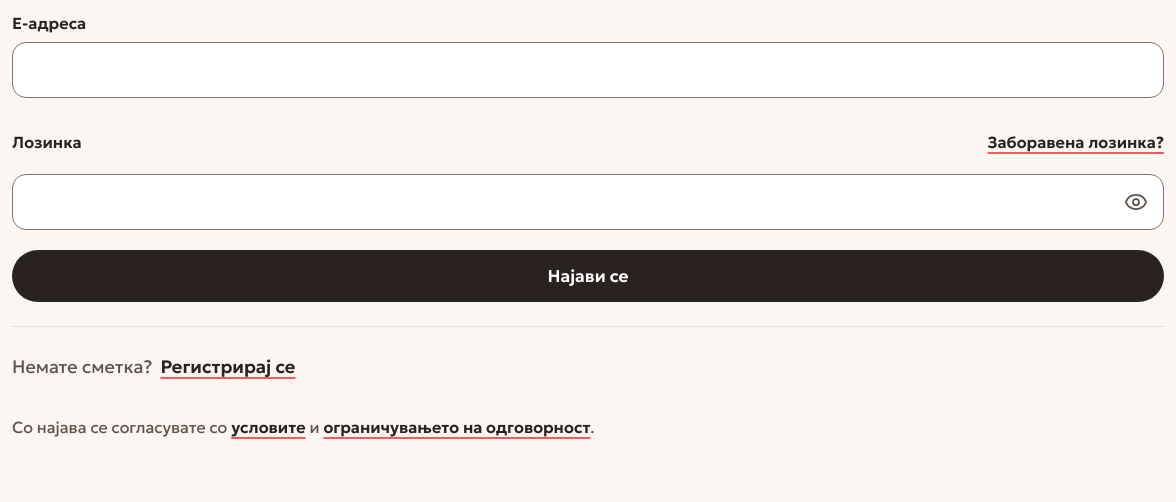
Test: LoginForm › reports a network failure without crashing
In the field labelled "Е-адреса": (588, 70) [12, 42, 1164, 98], type "ana@example.mk"
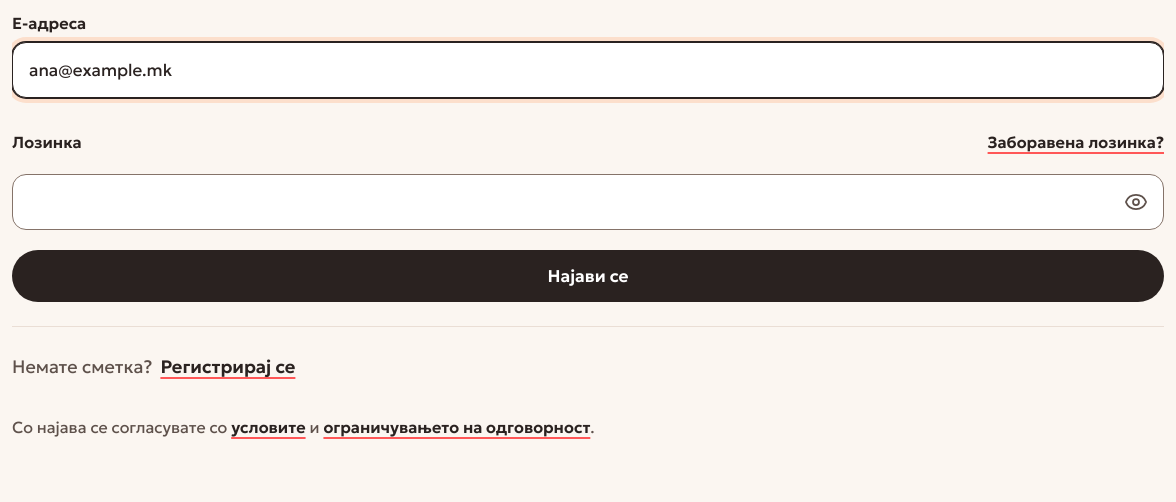
In the password field labelled "Лозинка": (588, 202) [12, 174, 1164, 230], type "secret-pass"
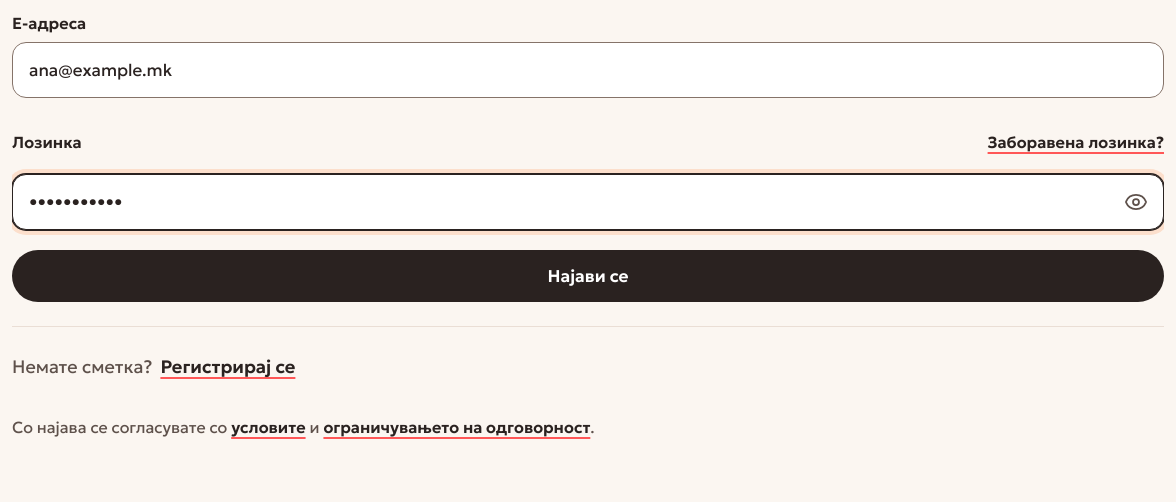
Click the button "Најави се": (588, 276) [12, 250, 1164, 302]
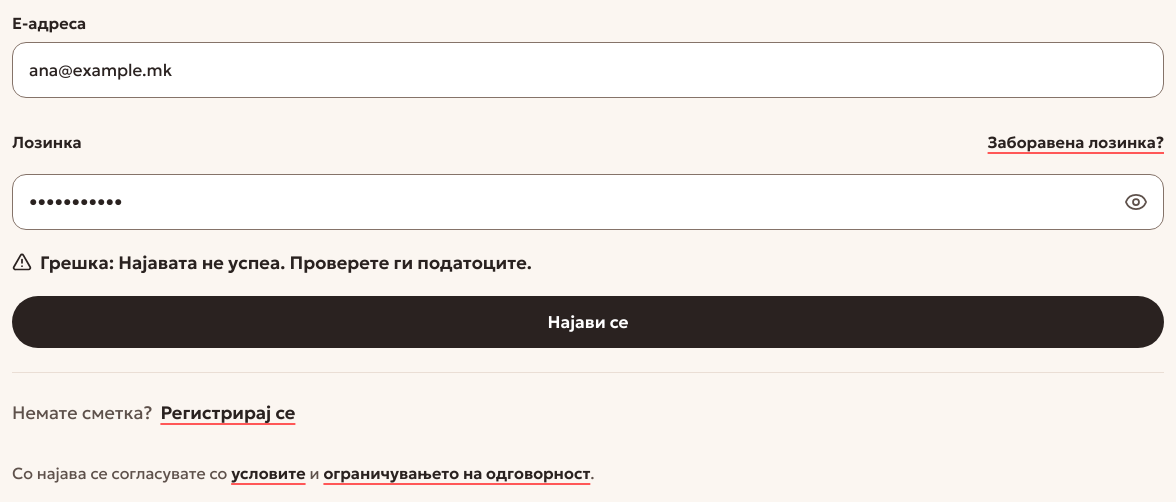
Expected: the message shows "Најавата не успеа. Проверете ги податоците.", [118, 251, 532, 274]
